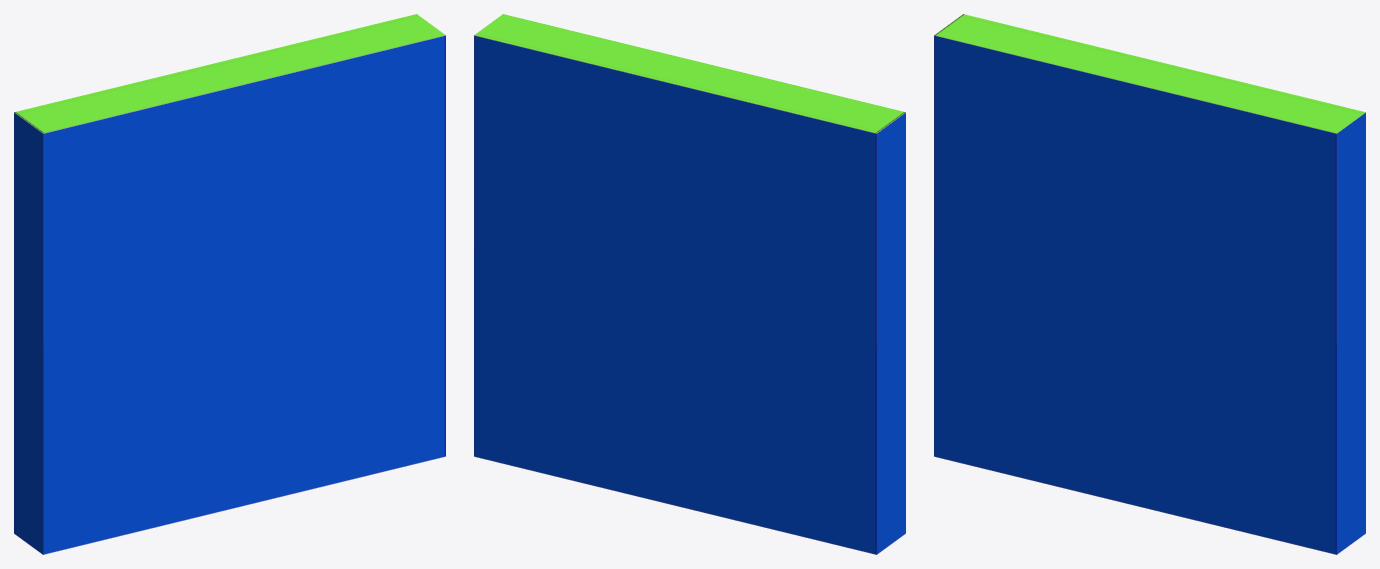
File: MK_MK_Wall_D.fbx
3 renders of one model, left to right at view 1: azimuth 30°, elevation 25°; view 2: azimuth 150°, elevation 25°; view 3: azimuth 330°, elevation 25°, orthographic.
Visible parts, largest first — view 1: MK_Wall_D; view 2: MK_Wall_D; view 3: MK_Wall_D.
Boxes of the visible parts, bbox=[...] form: MK_Wall_D: bbox=[14, 14, 445, 554]; MK_Wall_D: bbox=[474, 14, 905, 554]; MK_Wall_D: bbox=[934, 14, 1365, 554].
Bounding box in the file's own units: 180 × 180 × 22.5.
1 material, 1 textured.
